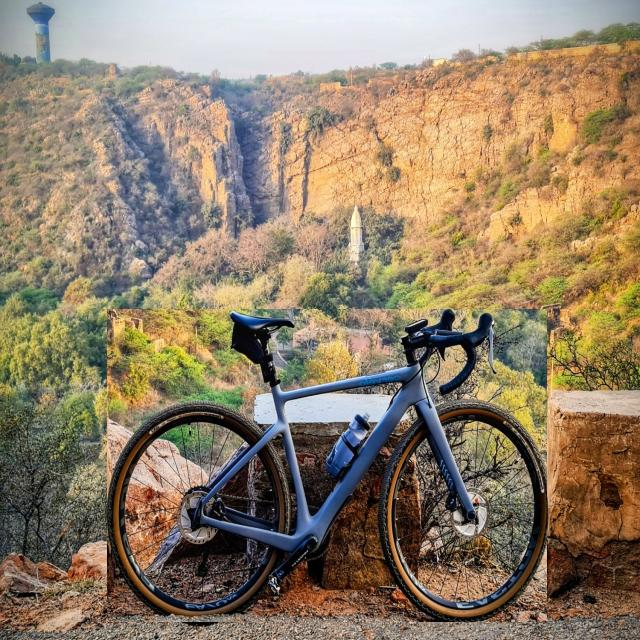bicycle: (108, 310, 547, 622)
